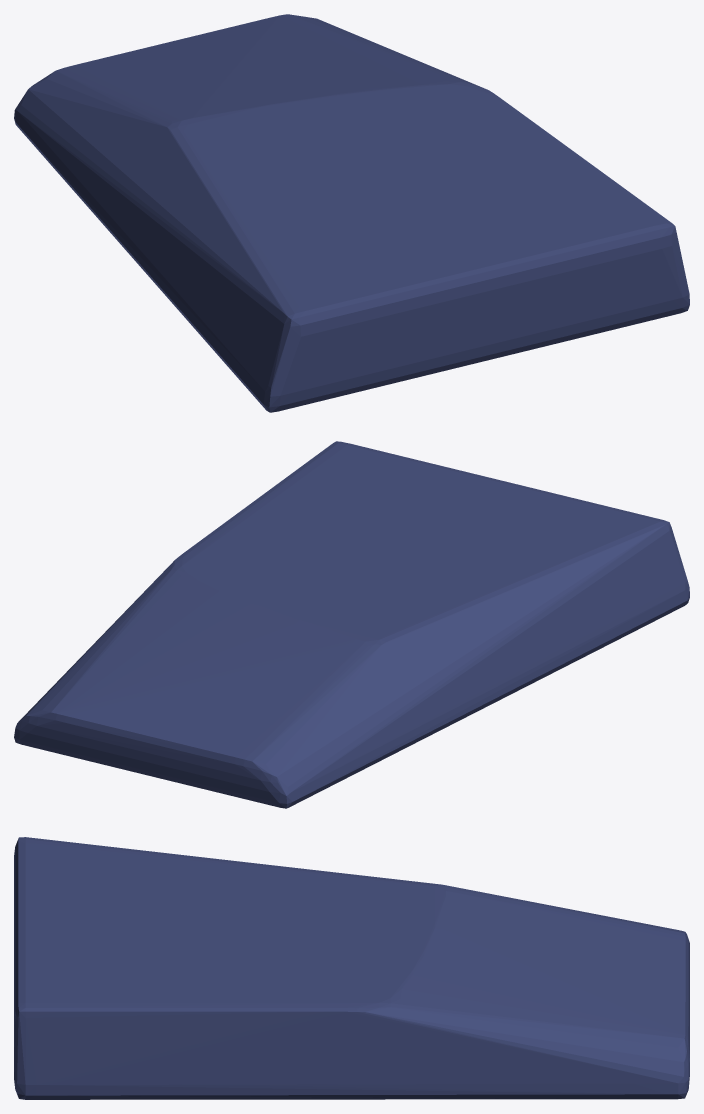
File: right_hip_pitch_link_part_16.obj
3 views of the same model, one above another, from view 1: azimuth 30°, elevation 25°; view 2: azimuth 150°, elevation 25°; view 3: azimuth 270°, elevation 25° (orthographic). The views are drawn at different scales.
Size of the model in its own units: 0.0873 by 0.0179 by 0.129.
